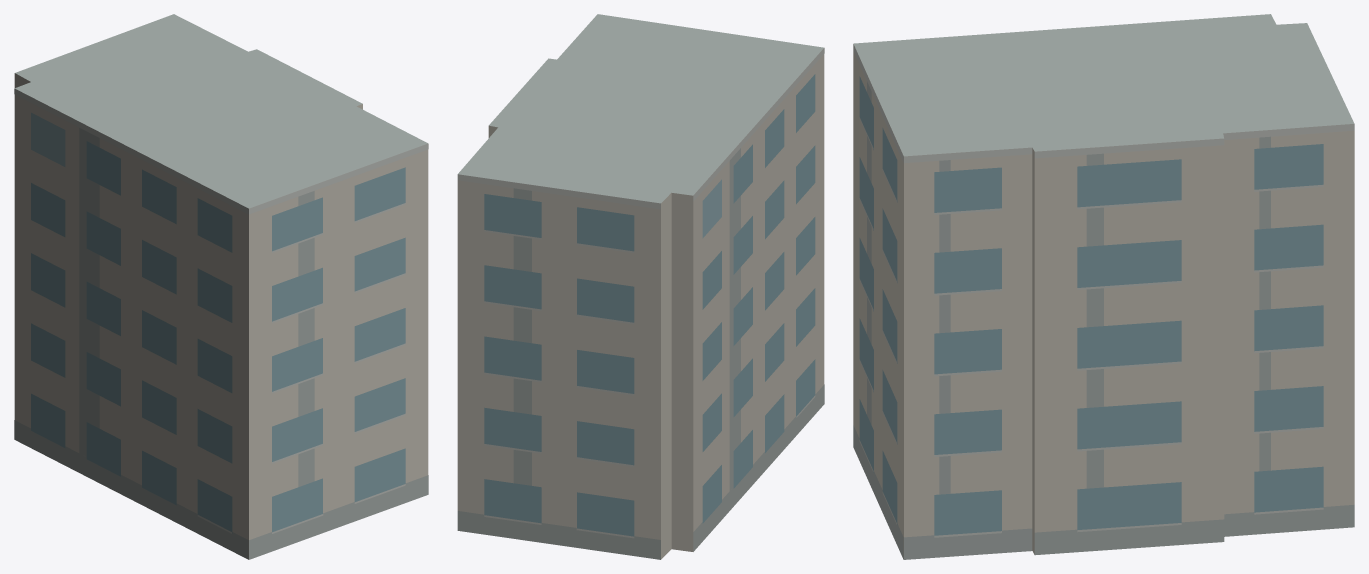
The model's file is survey-upis-32850372.glb.
The picture shows the model from 3 angles, left to right: view 1: azimuth 30°, elevation 25°; view 2: azimuth 150°, elevation 25°; view 3: azimuth 270°, elevation 25°; orthographic projection. The views are drawn at different scales.
Parts seen in each view (by area): view 1: survey-upis-32850372.tmp; view 2: survey-upis-32850372.tmp; view 3: survey-upis-32850372.tmp.
Boxes of the visible parts, bbox=[...] form: survey-upis-32850372.tmp: bbox=[14, 14, 428, 559]; survey-upis-32850372.tmp: bbox=[457, 14, 824, 559]; survey-upis-32850372.tmp: bbox=[853, 14, 1354, 559].
Bounding box in the file's own units: 10.91 × 14.4 × 16.22.
